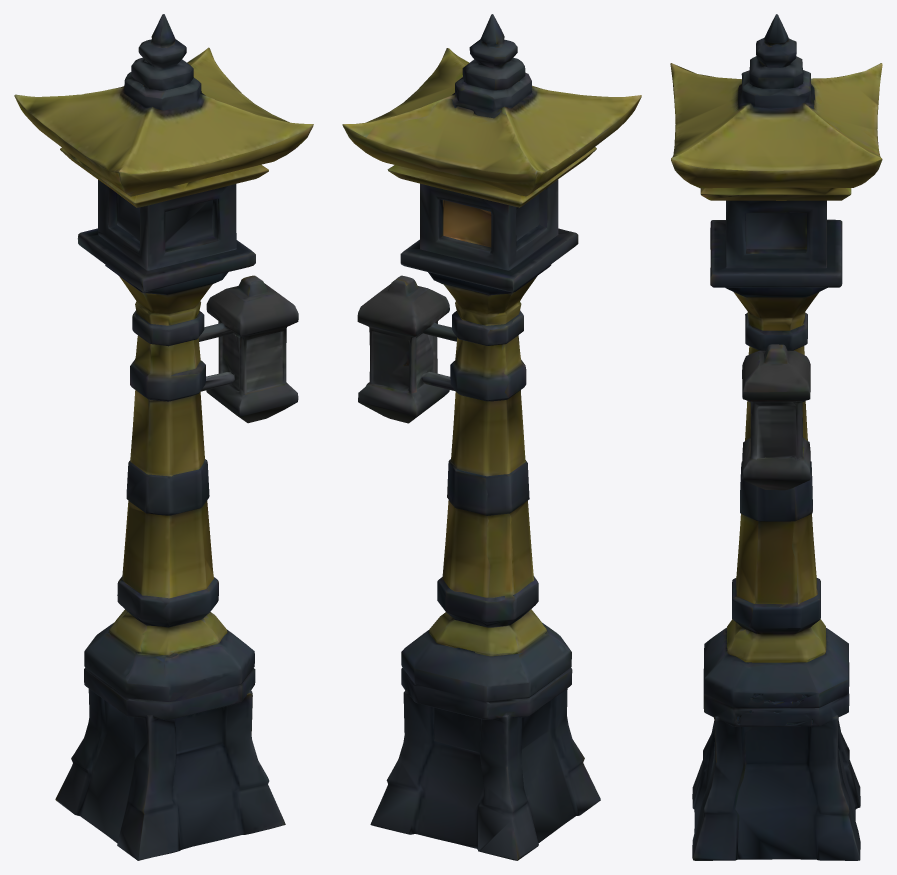
The model's file is prop_kagura_lamp.glb.
3 views of the same model, side by side, from view 1: azimuth 30°, elevation 25°; view 2: azimuth 150°, elevation 25°; view 3: azimuth 270°, elevation 25° (orthographic).
Visible parts, largest first — view 1: geometry_0; view 2: geometry_0; view 3: geometry_0.
Part boxes in pixels (box(x1,y1,x2,y2)): geometry_0: box(14, 14, 313, 860); geometry_0: box(342, 14, 641, 860); geometry_0: box(670, 14, 882, 860).
Bounding box in the file's own units: 0.2827 × 1 × 0.2385.
Materials: 1 (1 with a texture image).
